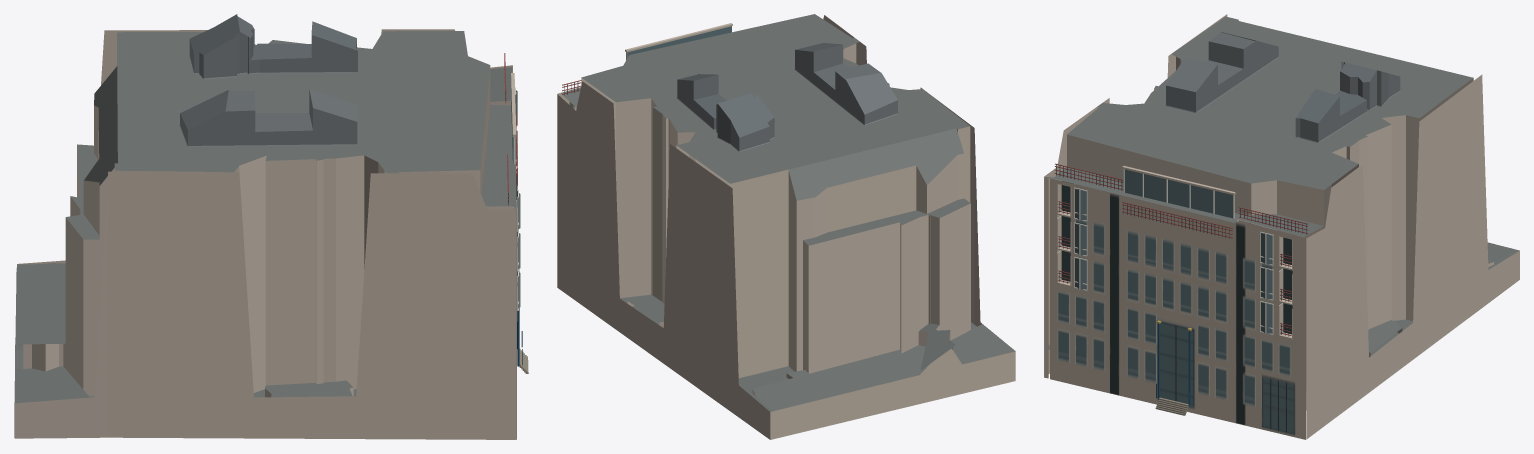
3 views of the same model, side by side, from view 1: azimuth 30°, elevation 25°; view 2: azimuth 150°, elevation 25°; view 3: azimuth 270°, elevation 25° (orthographic). The views are drawn at different scales.
Parts seen in each view (by area): view 1: 0363100012167736; view 2: 0363100012167736; view 3: 0363100012167736.
Part boxes in pixels (box(x1,y1,x2,y2)): 0363100012167736: box(14, 14, 528, 439); 0363100012167736: box(557, 14, 1015, 439); 0363100012167736: box(1044, 14, 1519, 439).
Size of the model in its own units: 40.4 by 22.82 by 36.43.
Materials: 2 (1 with a texture image).
